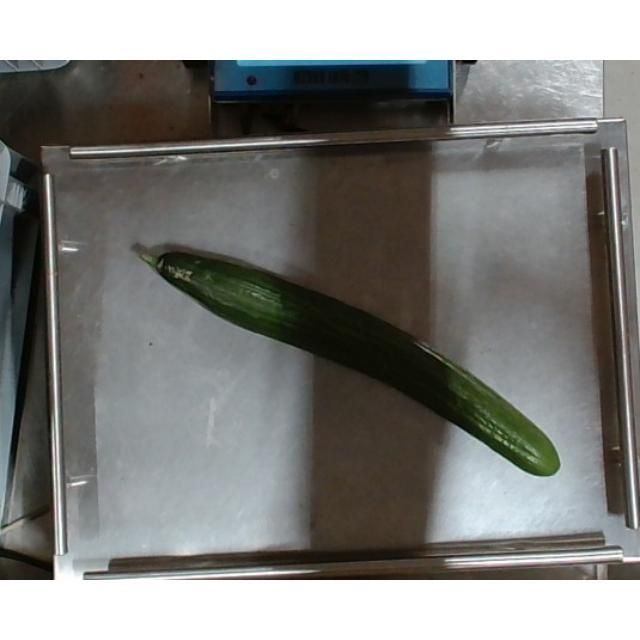cucumber: (131, 240, 561, 482)
